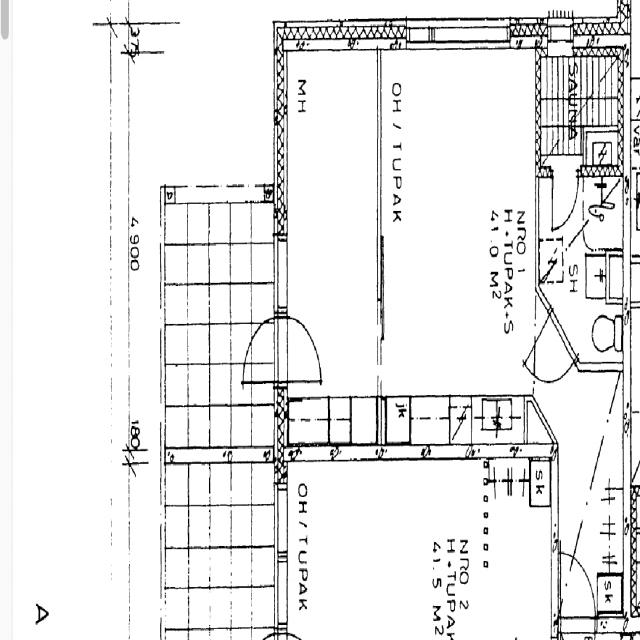door: (525, 308, 577, 406), (239, 318, 288, 380), (274, 318, 322, 380), (561, 552, 595, 633), (552, 166, 578, 225)
